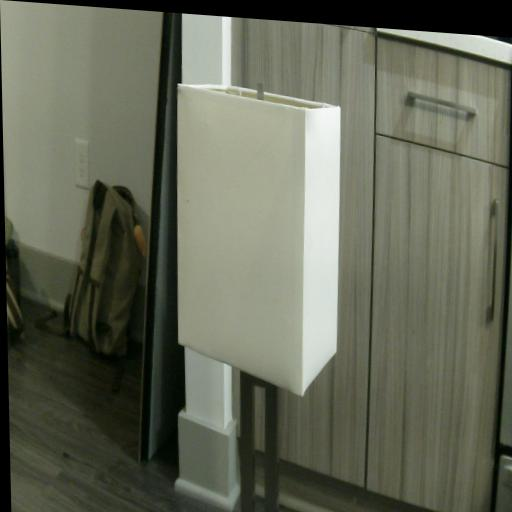lamp: (172, 80, 350, 512)
